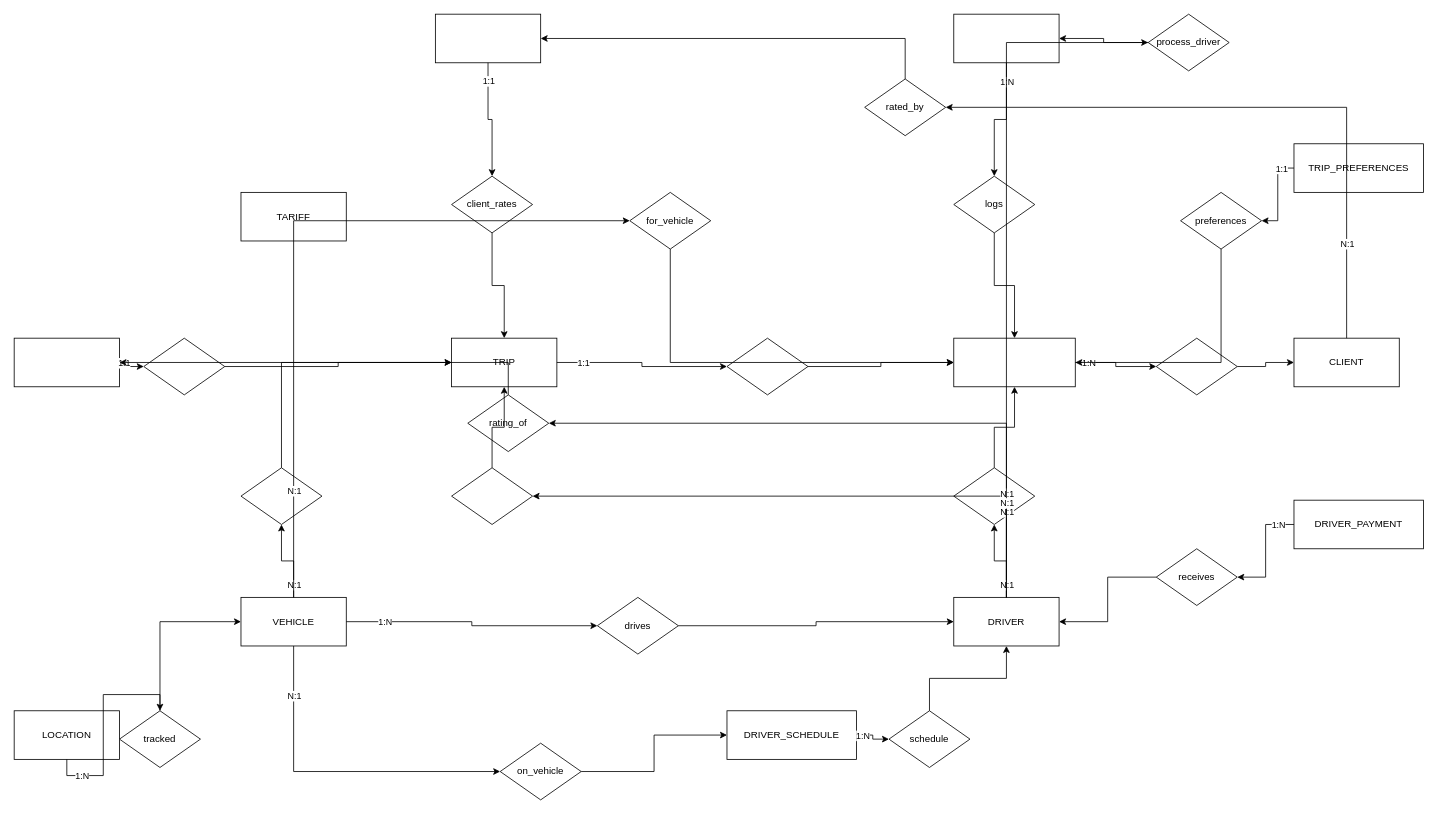
The diagram is 1438 pixels wide and 814 high, and some of its shapes have lost their labels. Here are the shapes that lost their labels. From the top down, the centre of each, then its label:
the point at 488,38: CLIENT_RATING
the point at 1006,38: TRIP_PROCESS
the point at 66,362: DRIVER_RATING
the point at 184,366: driver_rates
the point at 767,366: becomes
the point at 1014,362: TRIP_REQUEST
the point at 1196,366: requests
the point at 281,495: used_in
the point at 492,495: performs
the point at 994,495: assigned
